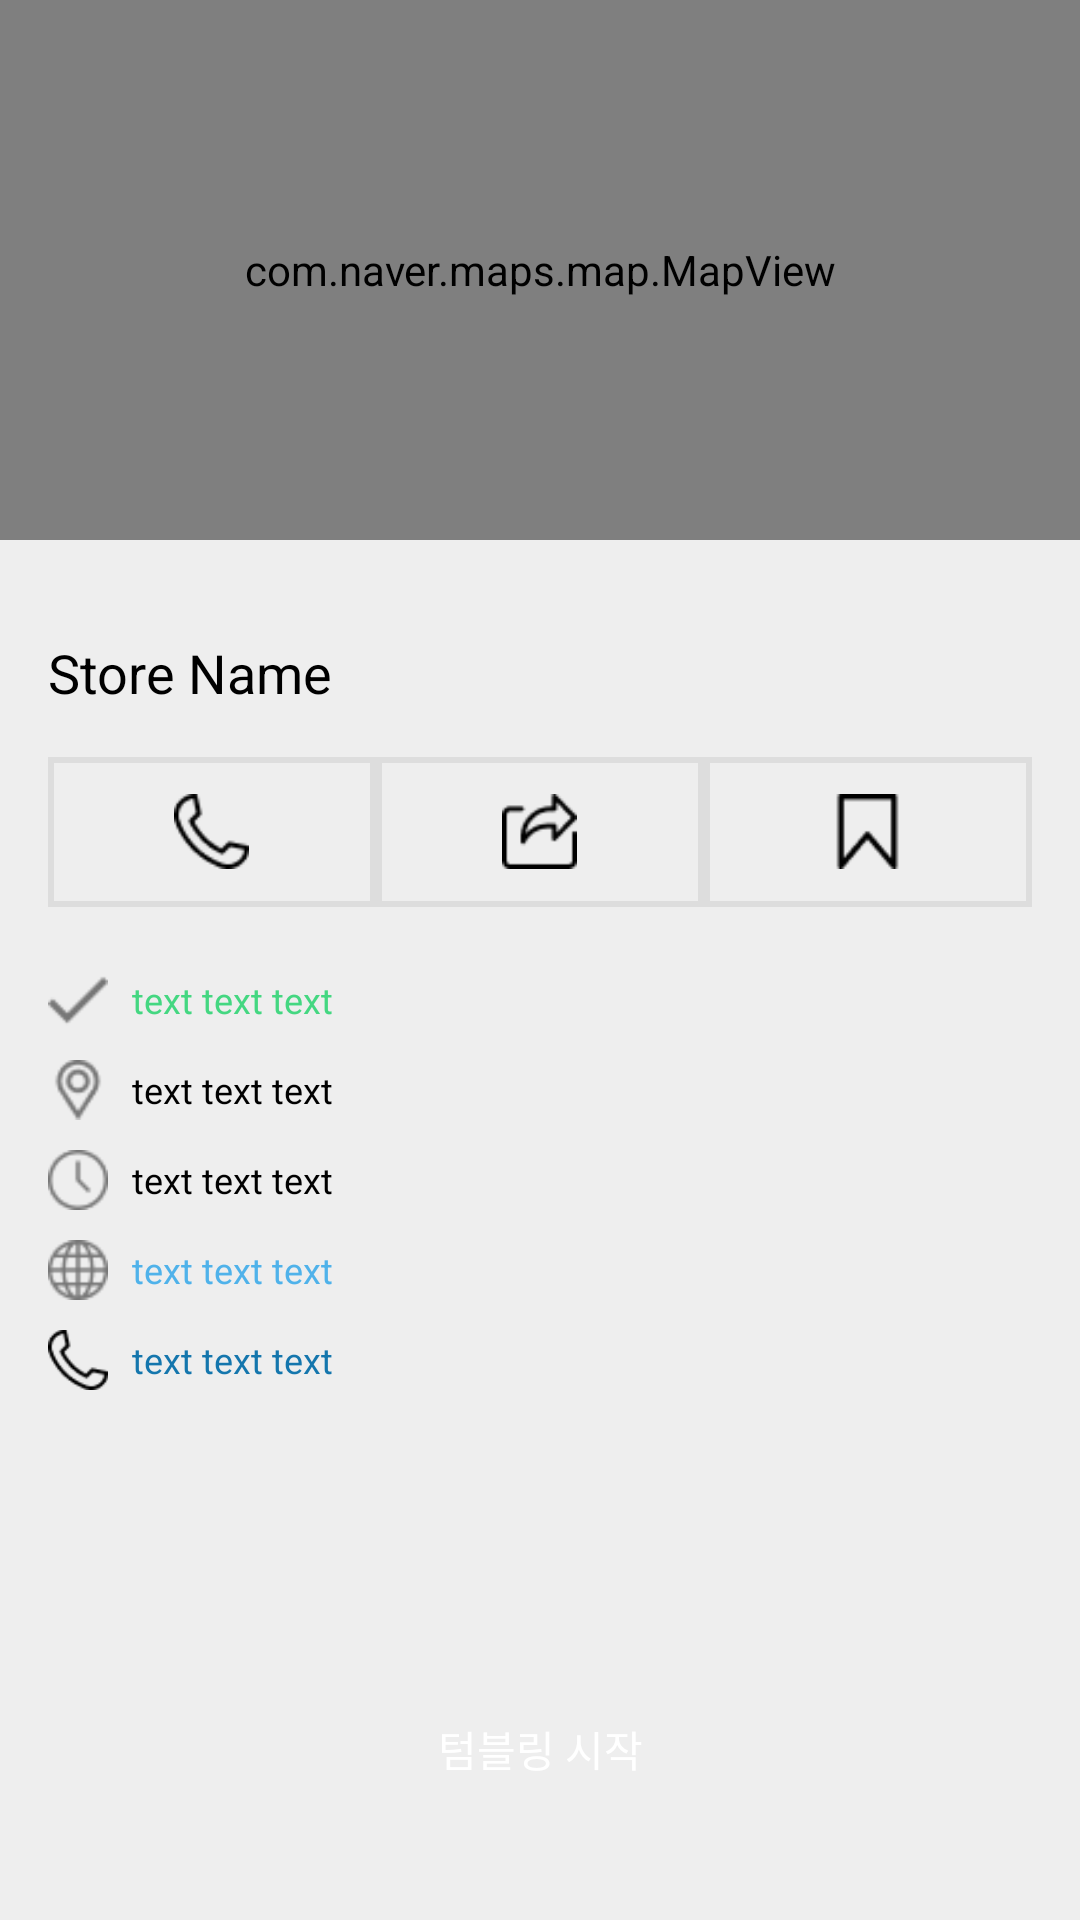

Icon click points for this 1080*1920 phone screenshot, format (x=x, y=y):
bookmark: (x=867, y=831)
check: (x=78, y=1000)
clock: (x=78, y=1180)
internet: (x=78, y=1270)
phone: (x=211, y=831), (x=78, y=1360)
pin: (x=78, y=1090)
share: (x=539, y=831)
